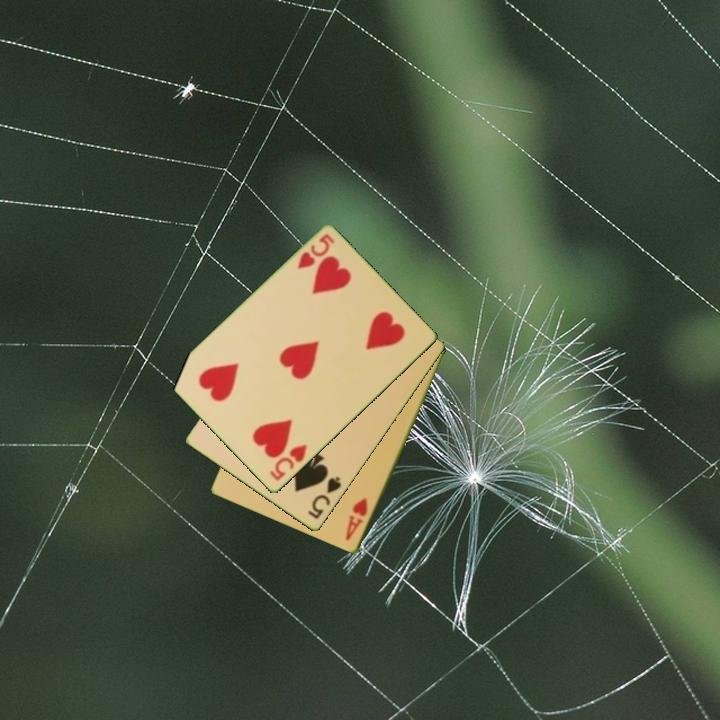5h: (266, 441, 310, 484), (294, 231, 337, 273)
5s: (304, 473, 344, 522)
Ah: (342, 494, 371, 544)
